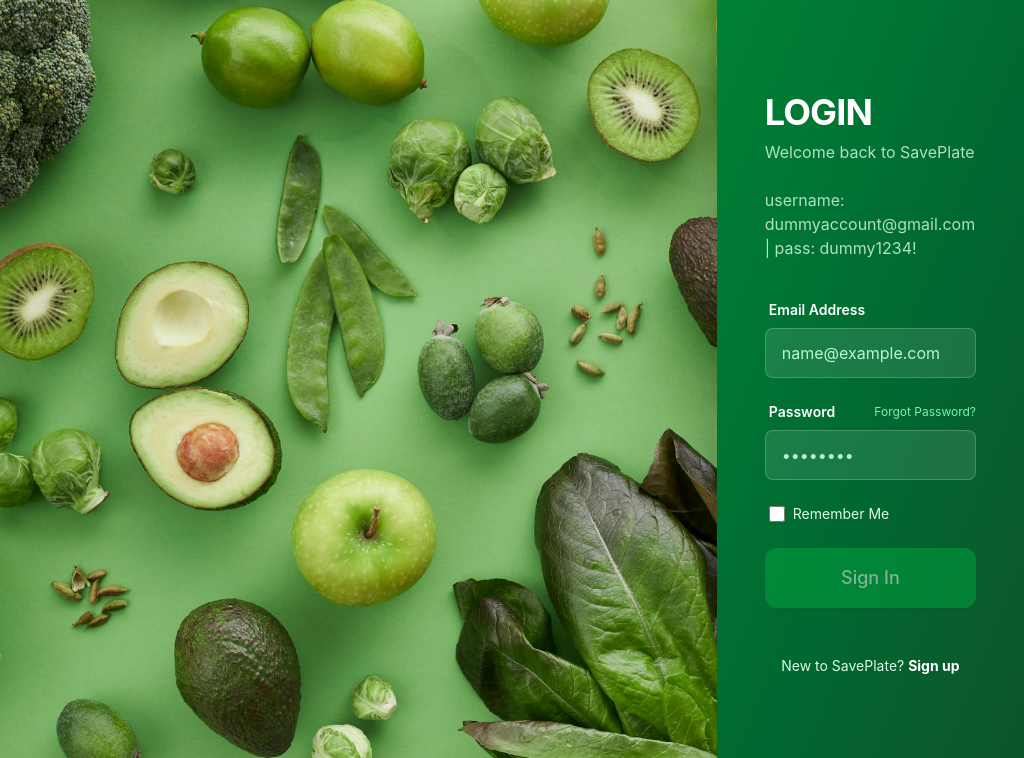
Scenario: Login Flow › should successfully login with dummy account
Type "dummyaccount@gmail.com" into the field with id "email" at point(871, 353), box 765,328 -> 976,378
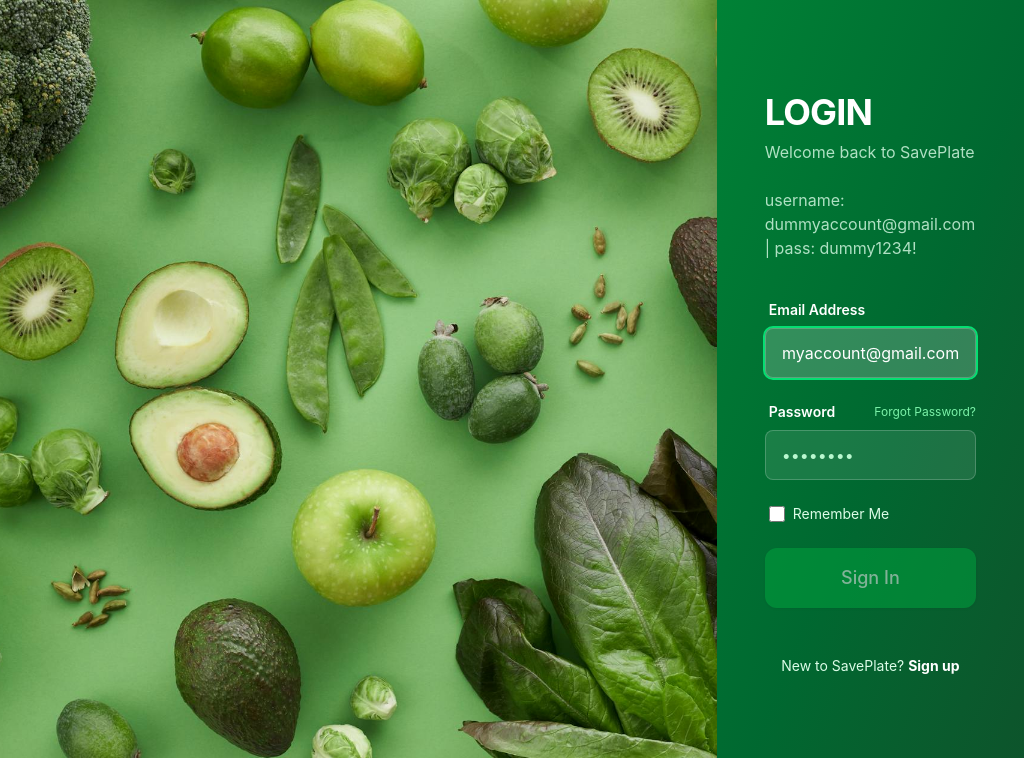
Type "dummy1234!" into the password field labelled "Password" at point(871, 455), box 765,430 -> 976,480
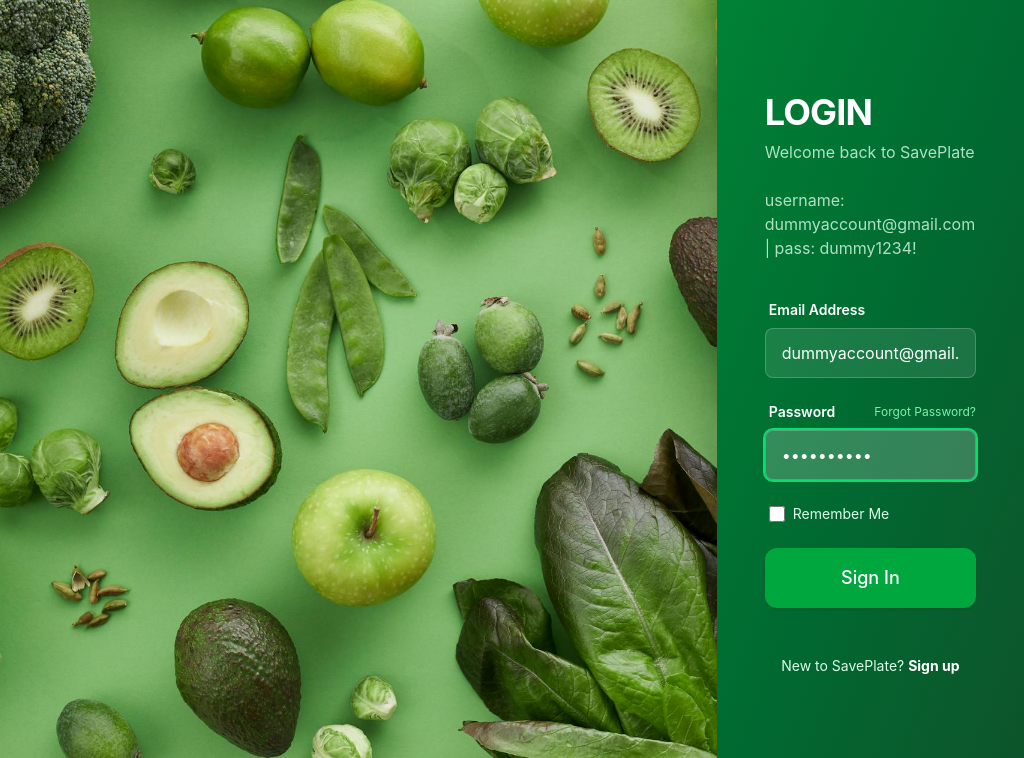
expect the submit button is enabled: met
Click the submit button at point(871, 578), box 765,548 -> 976,608
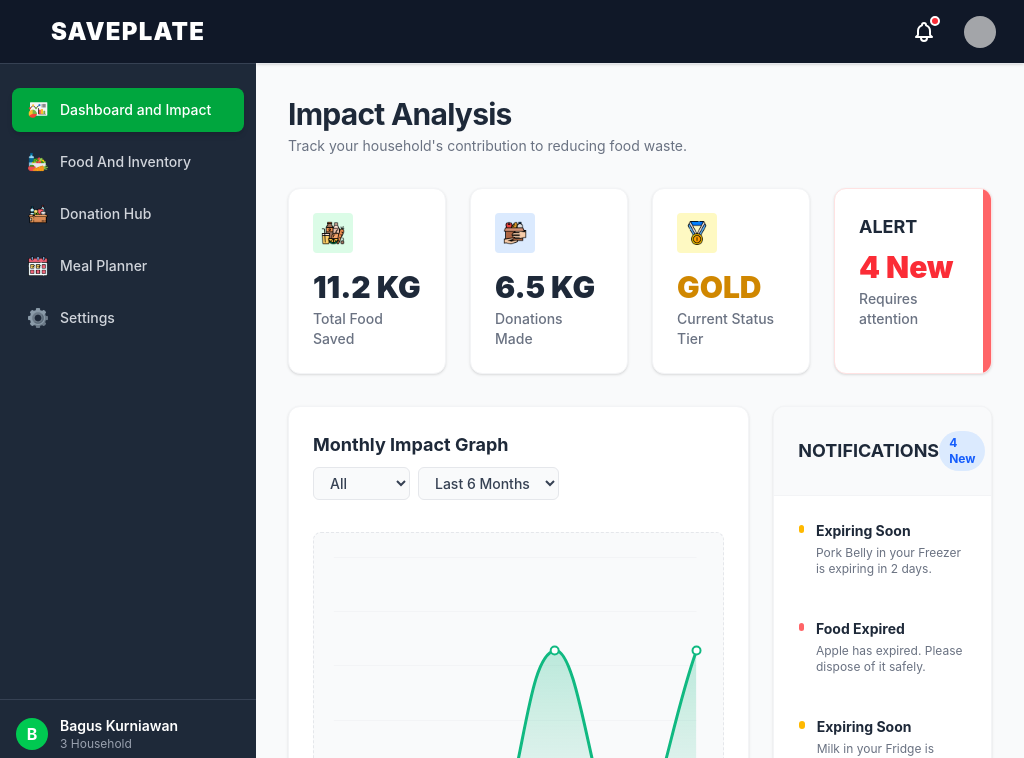
expect the heading "Impact Analysis" is shown: met, box 288,96 -> 512,132
